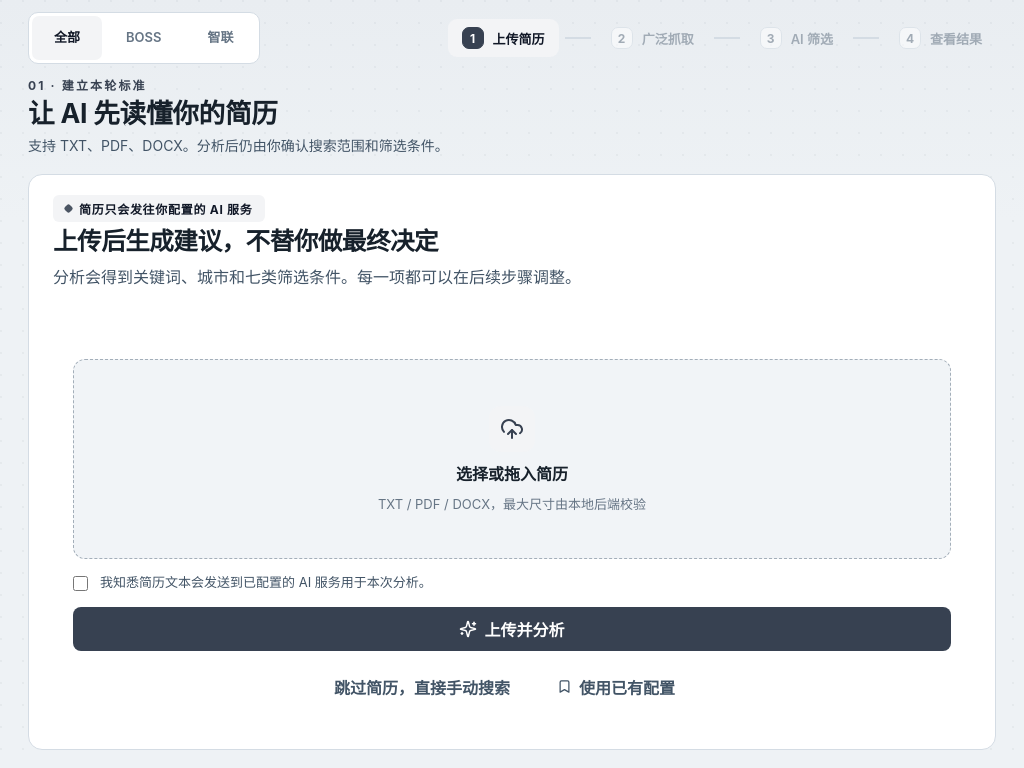
Test: DiscoveryView 常用搜索配置包 › 列表加载失败时保留重试入口，重试成功后展示配置包
This screenshot has width=1024, height=768.
Click the button with test id "saved-package-entry". click: (616,686)
box: [544,668,688,704]
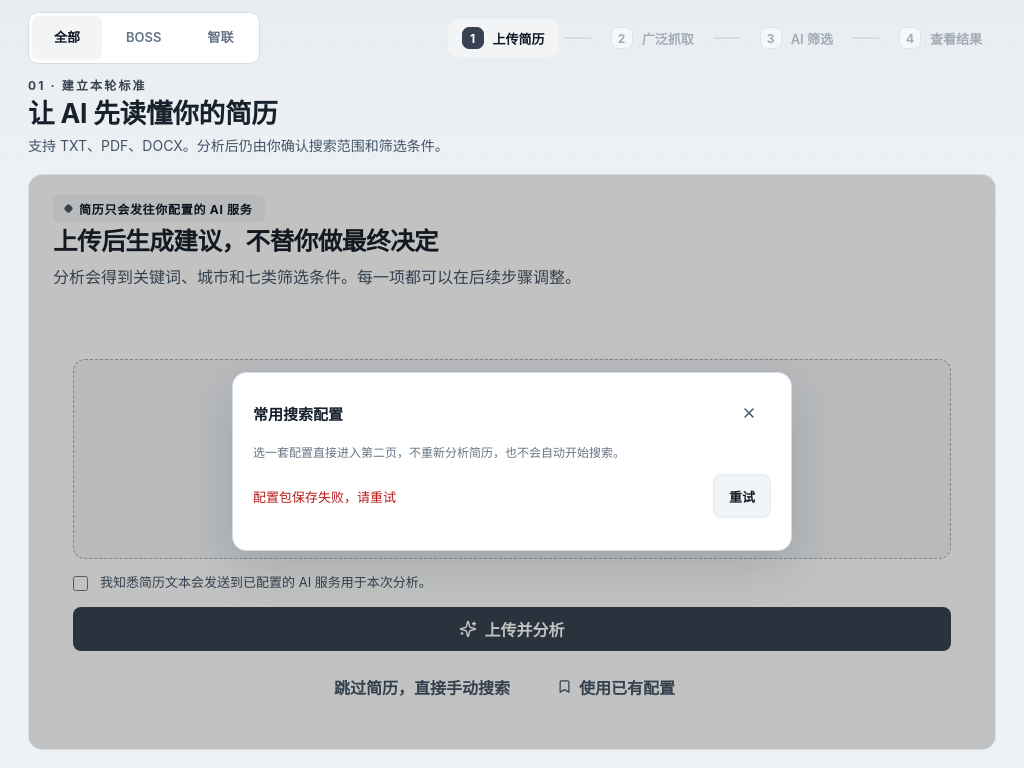
Result: the element with test id "package-list-error" shows "配置包保存失败，请重试" at [253,489,396,505]
Click the button with test id "package-list-retry". click: (742,496)
box: [713,474,771,518]
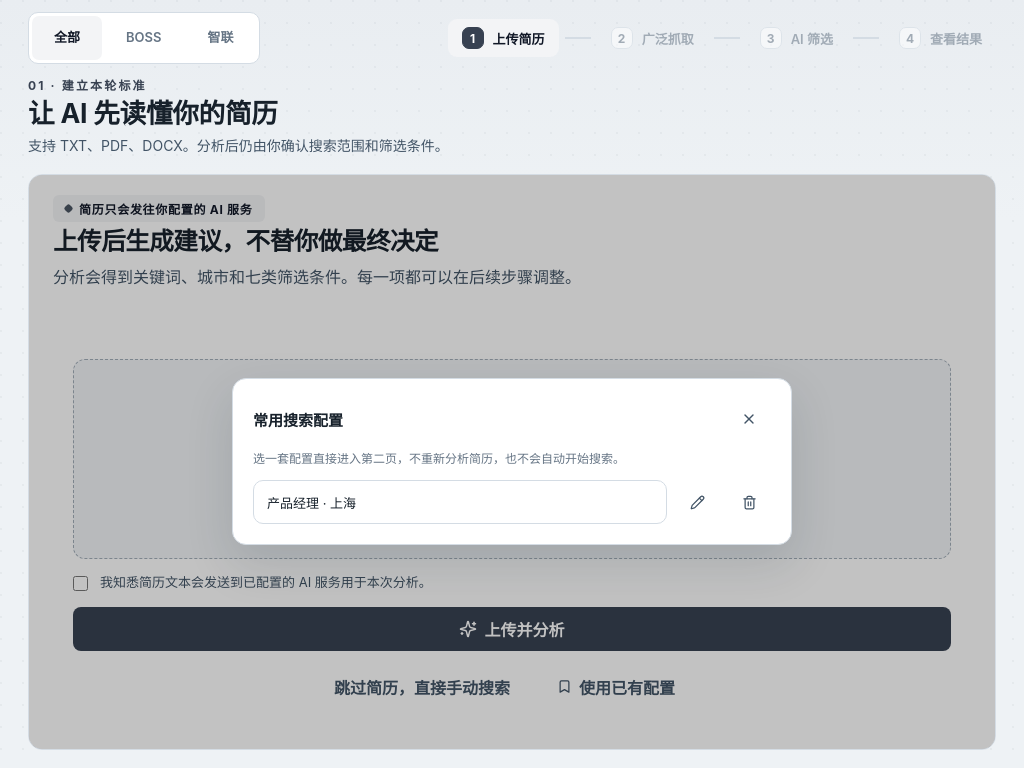
Result: the number of buttons with test id "package-item" is 1 at [253,480,667,524]
